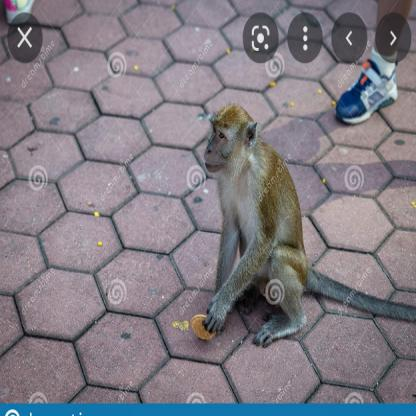monkey: (198, 99, 334, 350)
